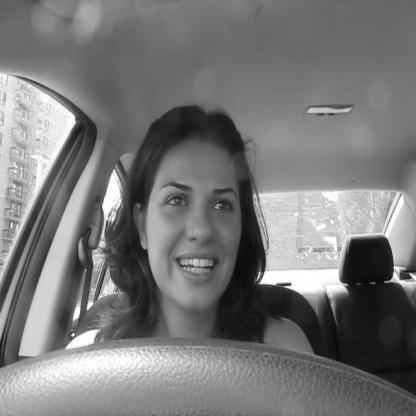no_seatbelt: (75, 96, 281, 416)
